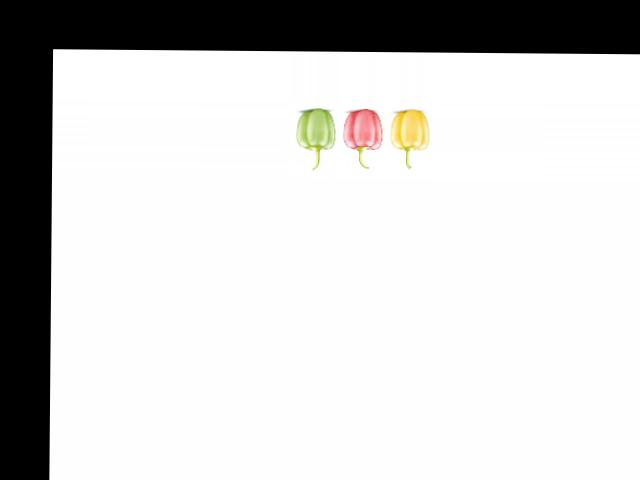bell_pepper: (291, 105, 335, 169)
